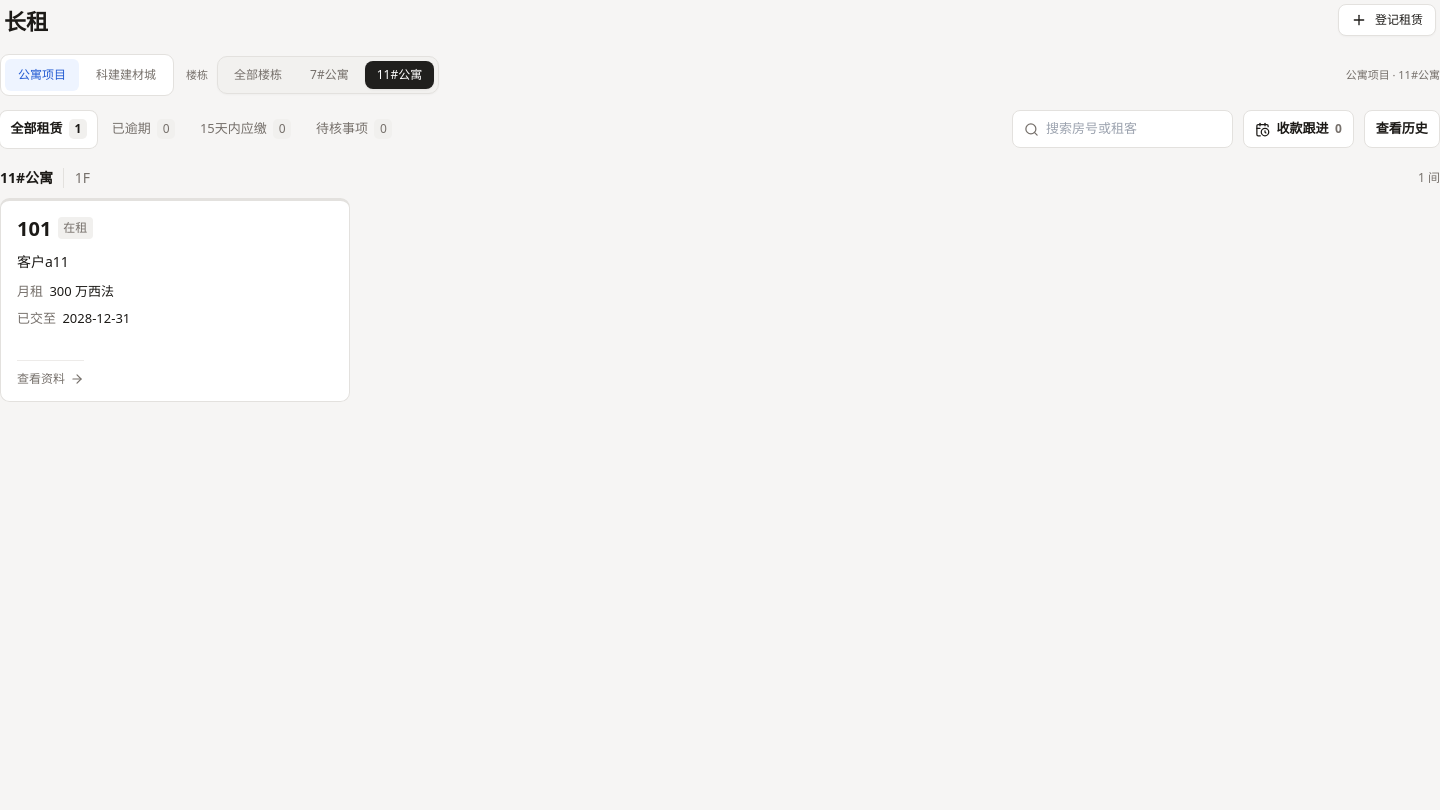
it: limits new-contract options to selected project and building, with building labels
The image size is (1440, 810).
What coordinates should you click on to do the following:
click the button "科建建材城"
I would click on:
 (126, 75)
Its box is [83,59,169,91].
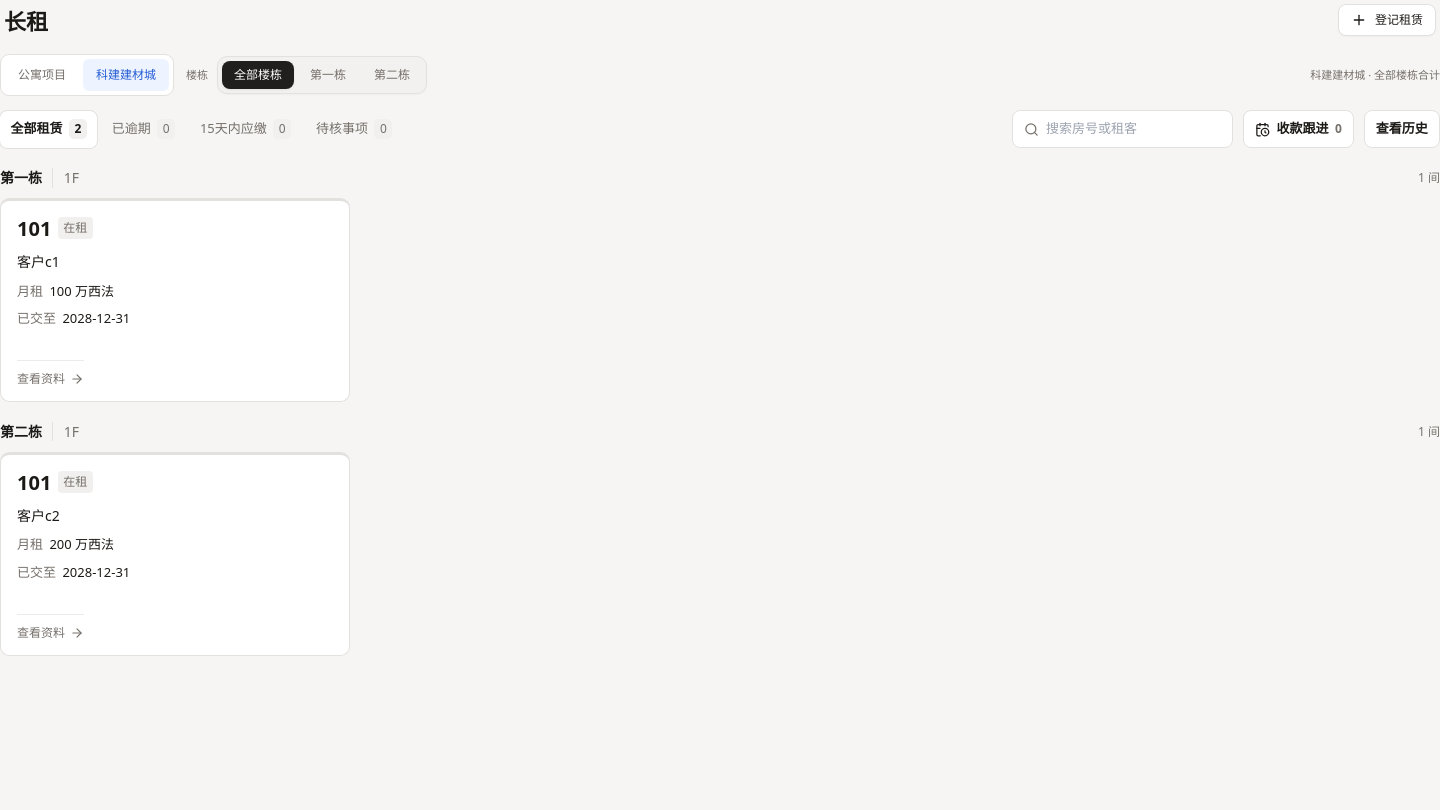
What coordinates should you click on to do the following:
click the button "第二栋"
I would click on:
 (392, 75)
Its box is [362,61,422,89].
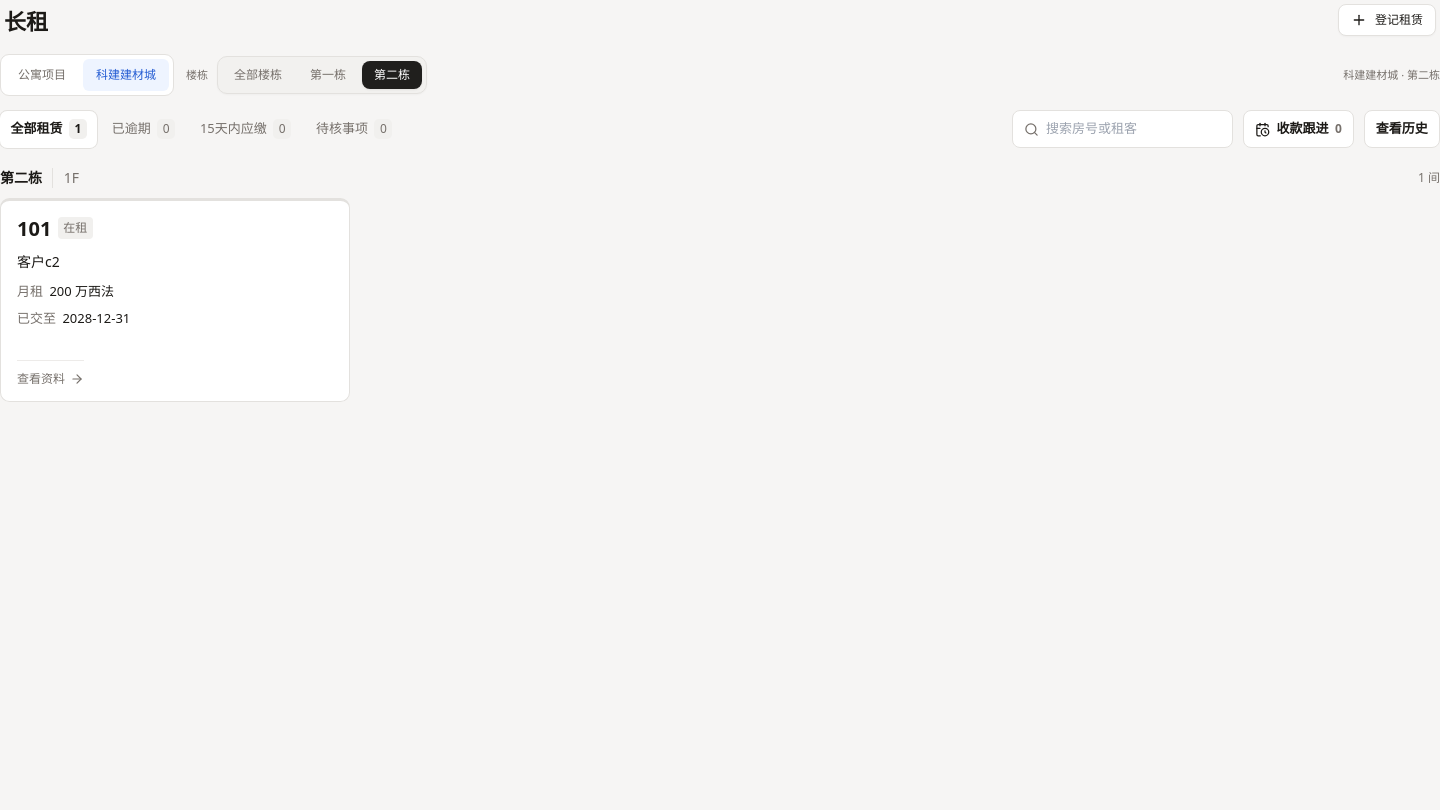
What coordinates should you click on to do the following:
click the button "登记租赁"
I would click on:
 (1387, 20)
Its box is [1338,4,1436,36].
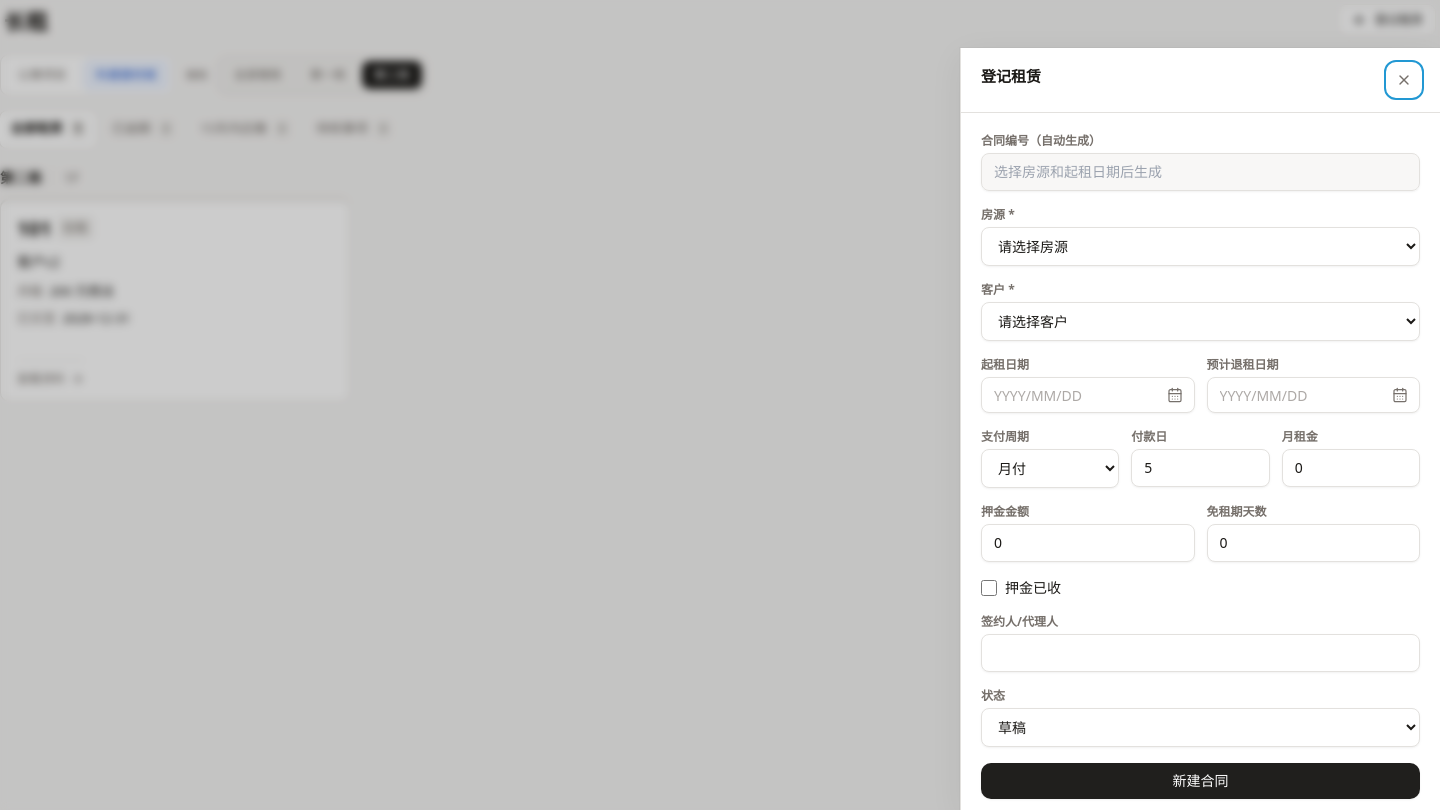
Now the dialog is shown, box [960,48,1439,809]
